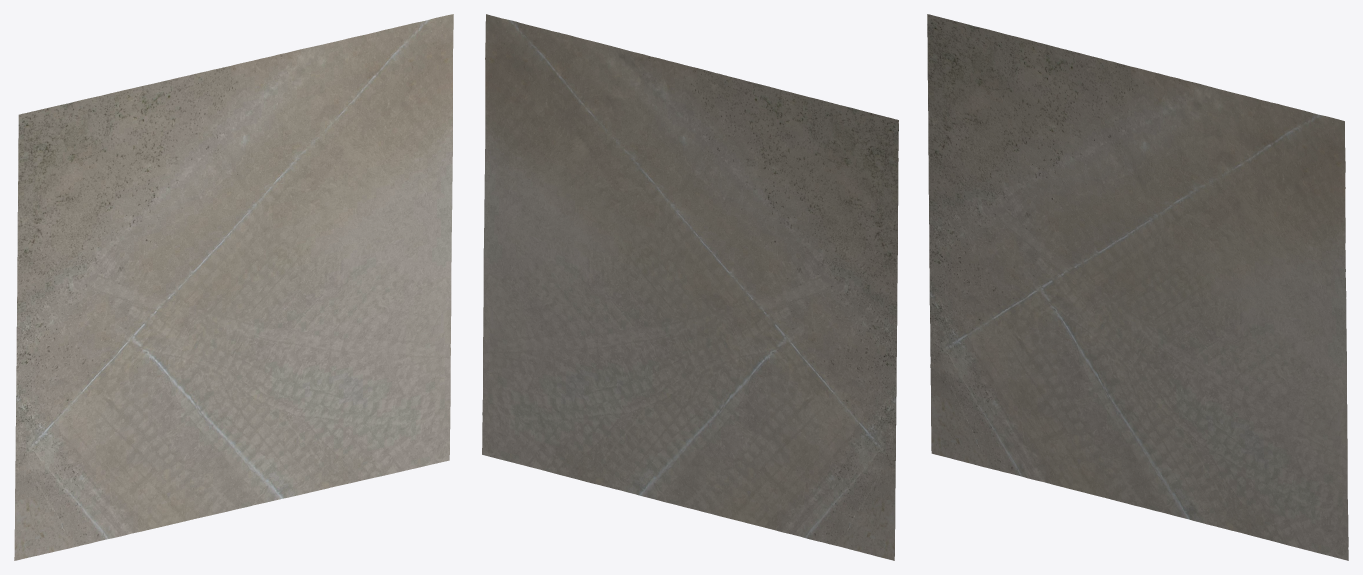
The model's file is Tile_+018_+013.fbx.
3 views of the same model, side by side, from view 1: azimuth 30°, elevation 25°; view 2: azimuth 150°, elevation 25°; view 3: azimuth 330°, elevation 25° (orthographic). The views are drawn at different scales.
Parts seen in each view (by area): view 1: DefaultName; view 2: DefaultName; view 3: DefaultName.
Part boxes in pixels (x1,y1,x2,y2): DefaultName: [14, 14, 453, 560]; DefaultName: [482, 14, 898, 560]; DefaultName: [927, 14, 1348, 560].
Bounding box in the file's own units: 22.54 × 22.54 × 0.8974.
